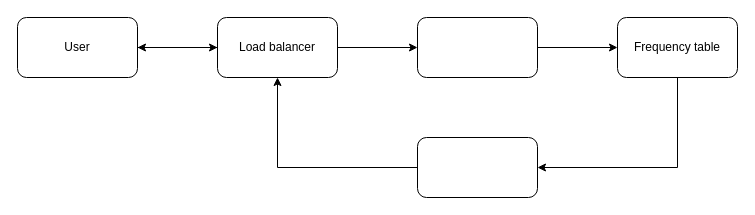
This 755x215 diagram has some shape labels left out. Here are the shapes that lost their labels. From the top down, the centre of each, then its label:
pixel 477 47: Data gathering serivce
pixel 477 167: Query service
